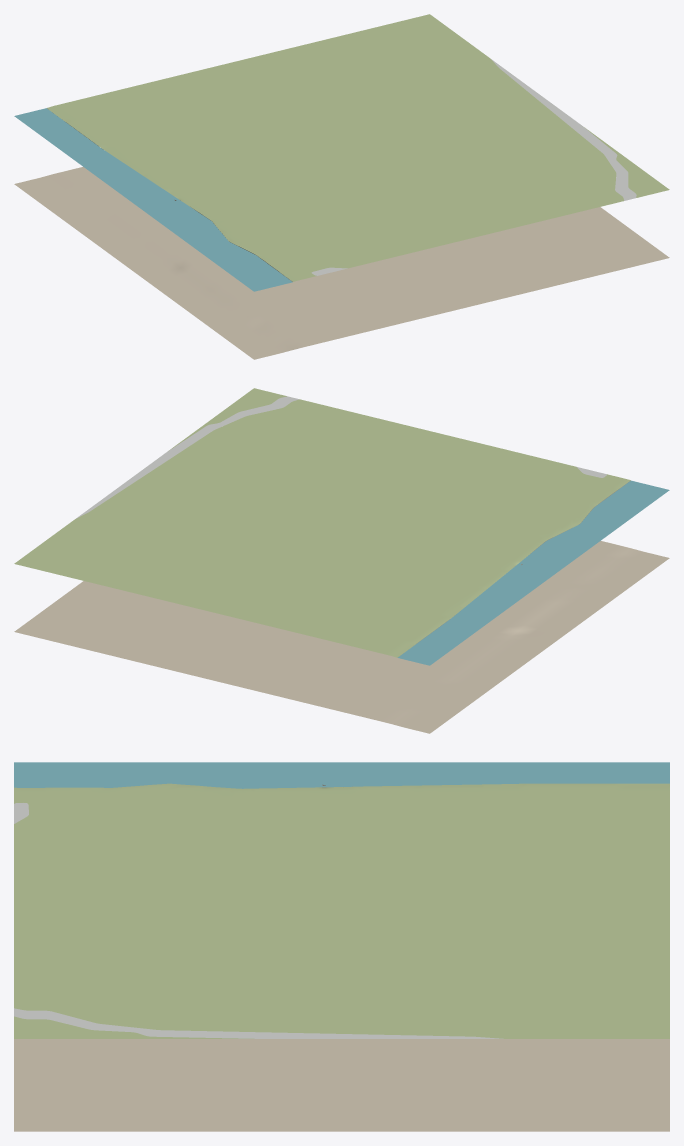
3 renders of one model, top to bottom at view 1: azimuth 30°, elevation 25°; view 2: azimuth 150°, elevation 25°; view 3: azimuth 270°, elevation 25°, orthographic. The views are drawn at different scales.
Parts seen in each view (by area): view 1: s_-12_1__grass, s_-12_1__soil, s_-12_1__water, s_-12_1__stone_paving; view 2: s_-12_1__grass, s_-12_1__soil, s_-12_1__water, s_-12_1__stone_paving; view 3: s_-12_1__grass, s_-12_1__soil, s_-12_1__water, s_-12_1__stone_paving.
Part boxes in pixels (<box>): s_-12_1__grass: <box>47,14,669,281</box>; s_-12_1__soil: <box>14,167,669,359</box>; s_-12_1__water: <box>14,108,292,291</box>; s_-12_1__stone_paving: <box>311,59,636,275</box>; s_-12_1__grass: <box>14,388,630,657</box>; s_-12_1__soil: <box>14,541,669,733</box>; s_-12_1__water: <box>397,480,669,665</box>; s_-12_1__stone_paving: <box>76,396,606,518</box>; s_-12_1__grass: <box>14,783,669,1038</box>; s_-12_1__soil: <box>14,1039,669,1131</box>; s_-12_1__water: <box>14,762,669,788</box>; s_-12_1__stone_paving: <box>14,803,503,1038</box>.
Bounding box in the file's own units: 128 × 20.14 × 128.
